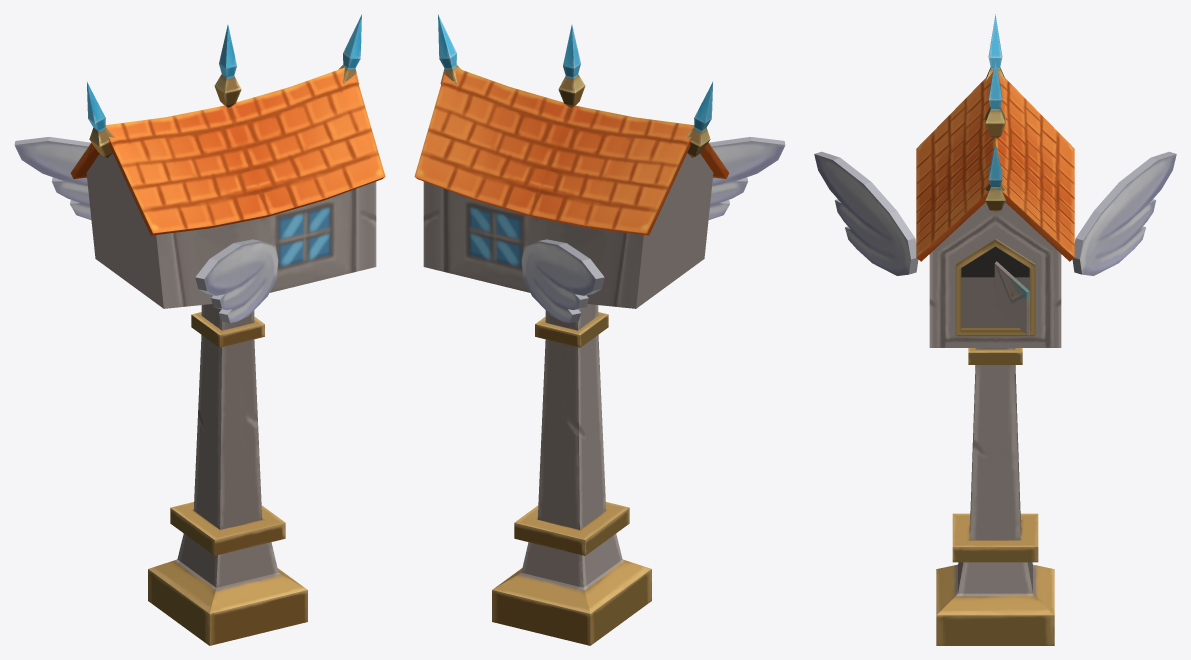
Rendered from zhucheng_youxiang.FBX.
3 renders of one model, left to right at view 1: azimuth 30°, elevation 25°; view 2: azimuth 150°, elevation 25°; view 3: azimuth 270°, elevation 25°, orthographic. The views are drawn at different scales.
Parts seen in each view (by area): view 1: zhucheng_youxiang; view 2: zhucheng_youxiang; view 3: zhucheng_youxiang.
Boxes of the visible parts, left/top/right/bottom form: zhucheng_youxiang: left=14, top=14, right=385, bottom=645; zhucheng_youxiang: left=414, top=14, right=785, bottom=645; zhucheng_youxiang: left=814, top=14, right=1176, bottom=645.
Bounding box in the file's own units: 92.77 × 189 × 110.
